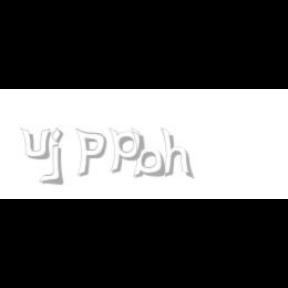P: (75, 128, 107, 178)
b: (131, 128, 169, 178)
h: (161, 128, 196, 180)
j: (48, 128, 78, 186)
p: (108, 128, 145, 174)
u: (20, 128, 56, 160)
